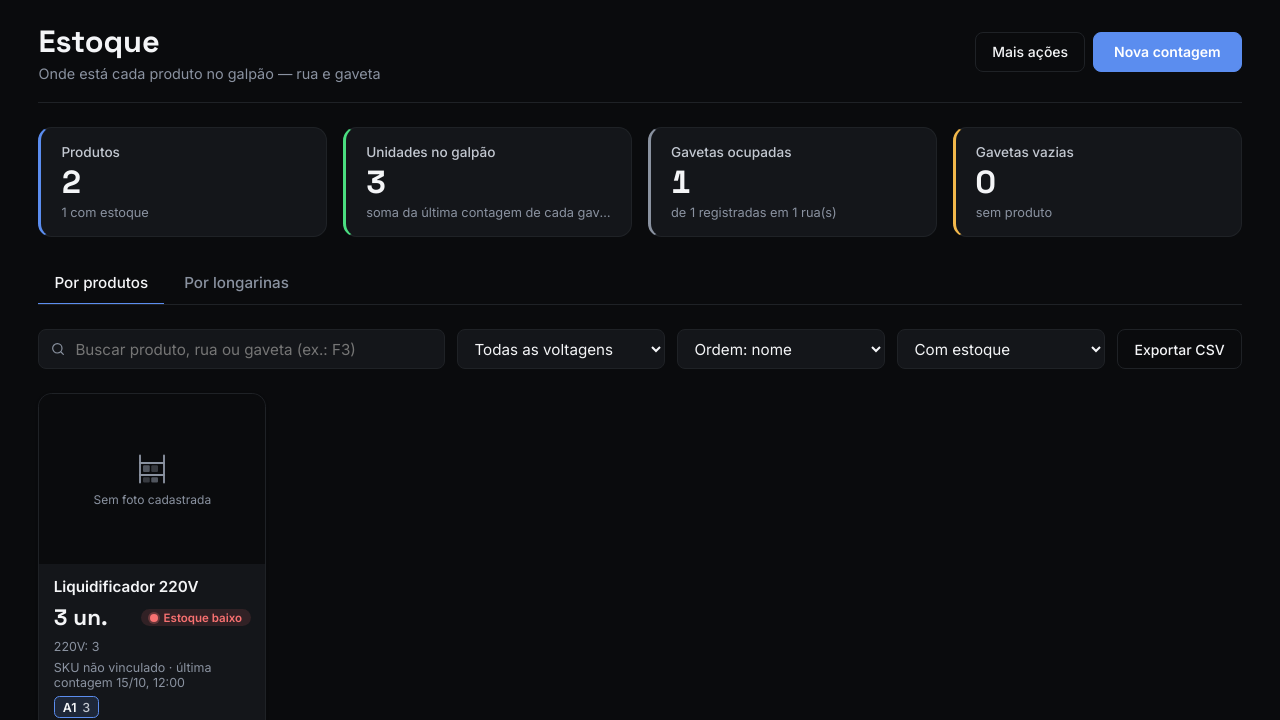
Test: Estoque › permite filtrar produtos com ou sem estoque e registra a opção no endereço
Expected: the text "Liquidificador 220V" is shown, left=54, top=577, right=198, bottom=596
Expected: the text "Chaleira 110V" is not shown
Select "Sem estoque" in the dropdown named "Filtrar por disponibilidade de estoque": (1001, 349) left=897, top=329, right=1105, bottom=369
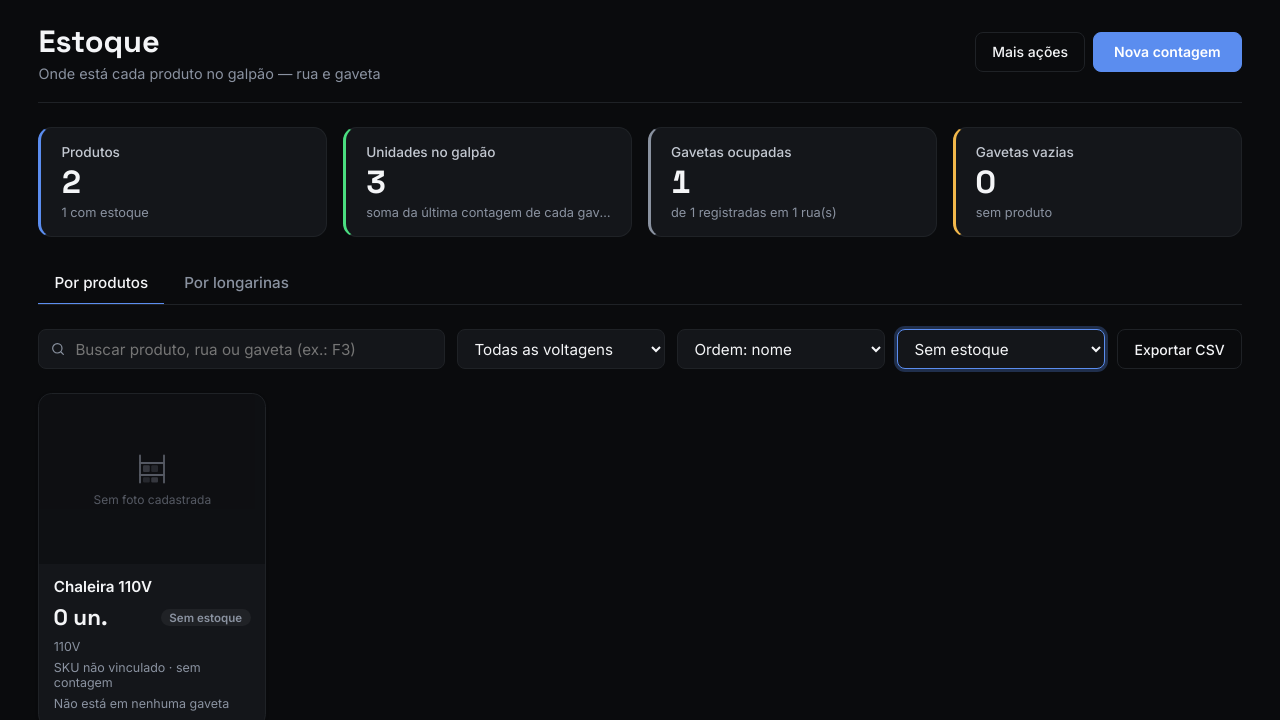
Now the text "Chaleira 110V" is shown, box left=54, top=577, right=152, bottom=596
Now the button "Liquidificador 220V" is gone
Select "Todos" in the dropdown named "Filtrar por disponibilidade de estoque": (1001, 349) left=897, top=329, right=1105, bottom=369
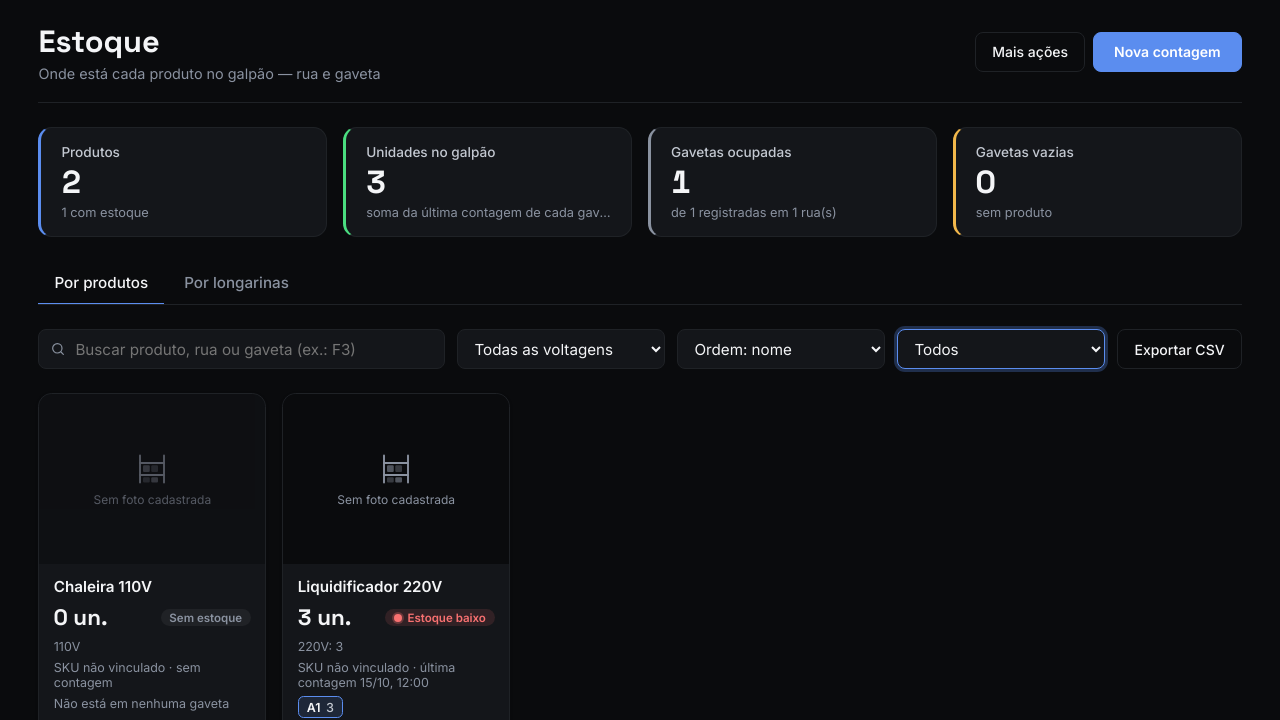
Now the text "Chaleira 110V" is shown, box left=54, top=577, right=152, bottom=596
Now the text "Liquidificador 220V" is shown, box left=298, top=577, right=442, bottom=596
